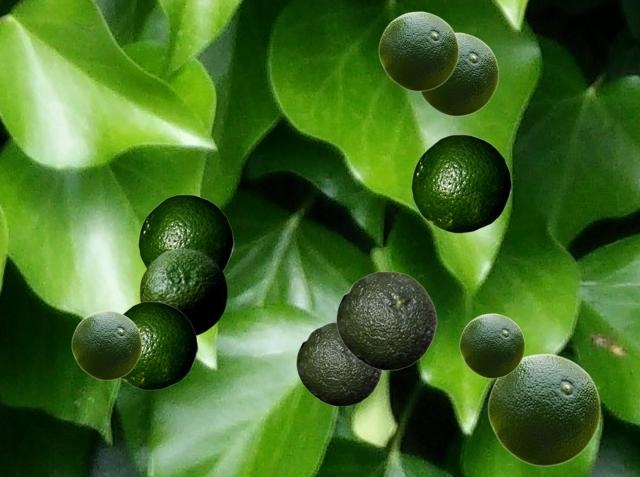calamansi: (487, 353, 600, 465), (336, 271, 436, 369), (411, 134, 511, 232), (139, 248, 226, 335), (138, 194, 233, 270), (296, 322, 382, 405), (121, 301, 197, 389), (419, 32, 498, 115), (378, 11, 458, 90), (71, 310, 141, 379), (459, 313, 524, 377)
